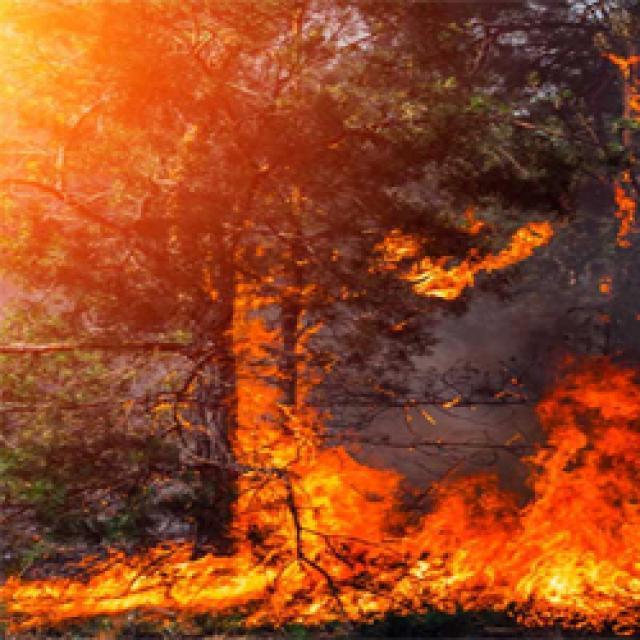Fire: (234, 447, 526, 640), (523, 358, 640, 640), (0, 530, 231, 640), (222, 238, 336, 448), (369, 207, 556, 302), (140, 384, 200, 440), (606, 158, 640, 248), (614, 46, 640, 119)
Smoke: (373, 304, 523, 442), (550, 245, 640, 358)
